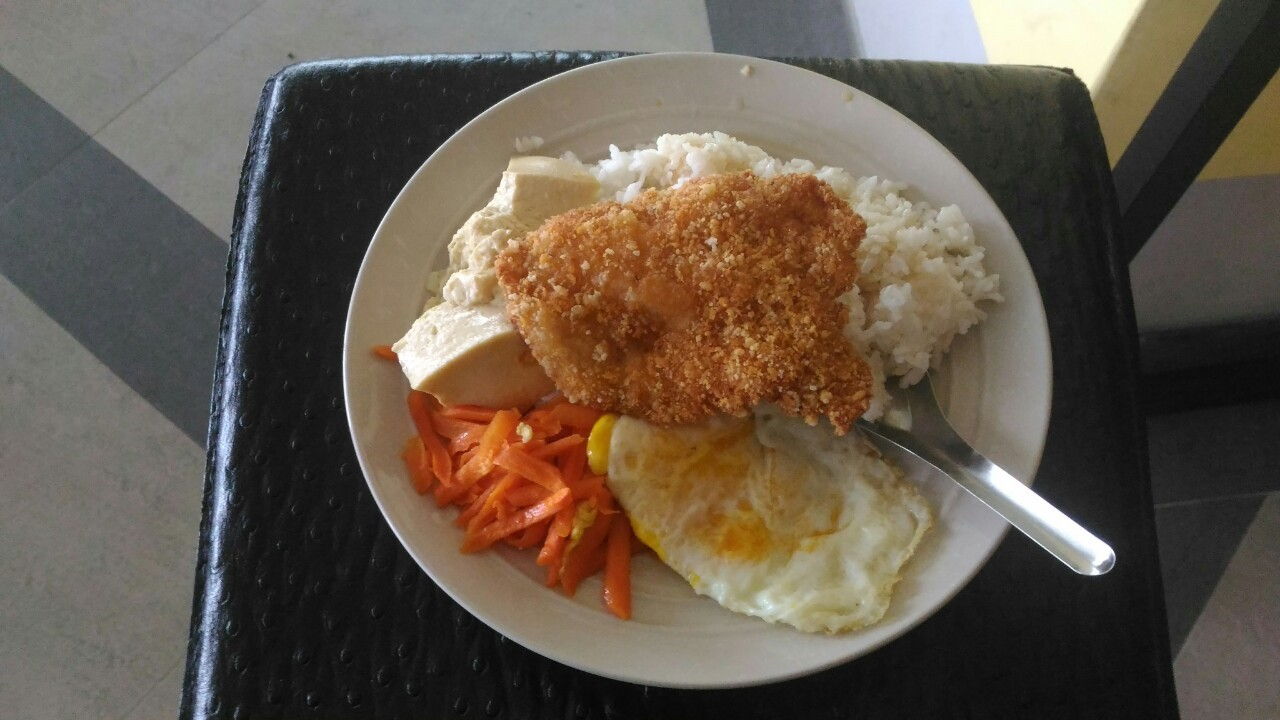carrot_eggs: (405, 393, 629, 611)
fried_chicken: (504, 172, 875, 440)
fried_eggs: (606, 415, 929, 629)
rice: (871, 181, 983, 367)
